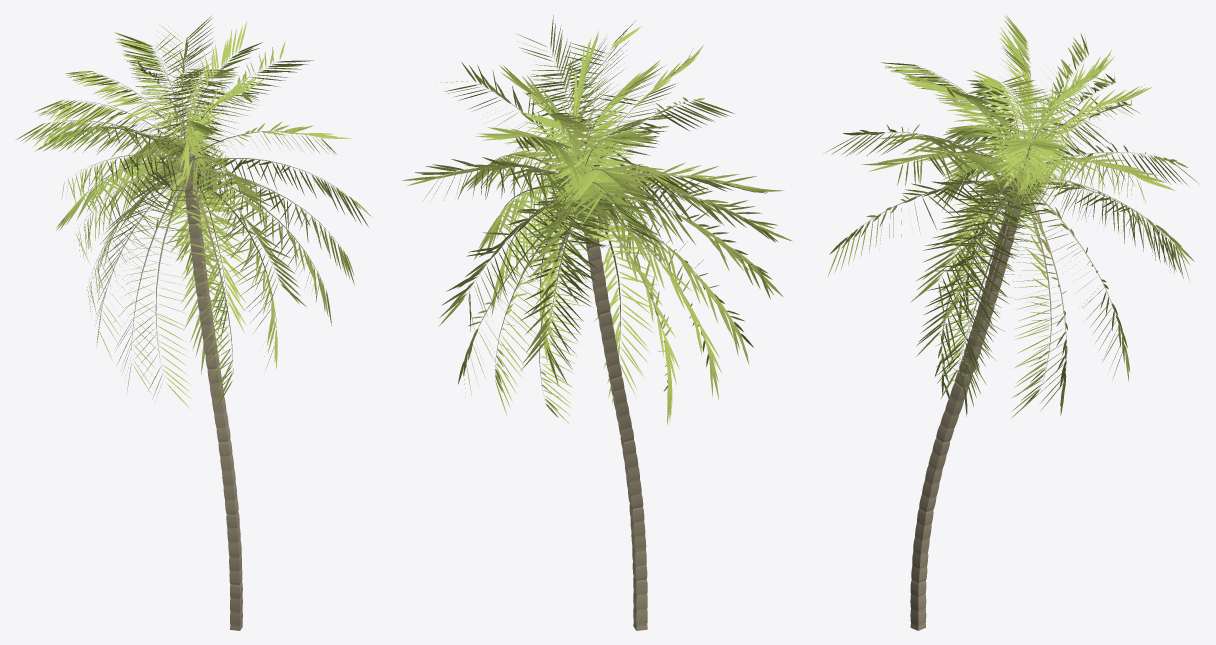
The model's file is sweethome3d-trees-palm-tree.glb.
3 views of the same model, side by side, from view 1: azimuth 30°, elevation 25°; view 2: azimuth 150°, elevation 25°; view 3: azimuth 270°, elevation 25° (orthographic). The views are drawn at different scales.
Parts seen in each view (by area): view 1: leaves, leaves2, trunk, stems_1; view 2: leaves2, leaves, trunk, stems_1; view 3: leaves2, leaves, trunk, stems_1.
Part boxes in pixels (x1,y1,x2,y2): leaves: (15,16,368,408); leaves2: (23,21,371,385); trunk: (182,151,242,630); stems_1: (59,57,342,373); leaves2: (402,15,792,417); leaves: (436,20,777,425); trunk: (581,212,647,630); stems_1: (455,56,762,395); leaves2: (829,15,1194,416); leaves: (823,17,1199,418); trunk: (910,167,1026,630); stems_1: (846,51,1167,383).
Bounding box in the file's own units: 7.61 × 13.64 × 7.87.
